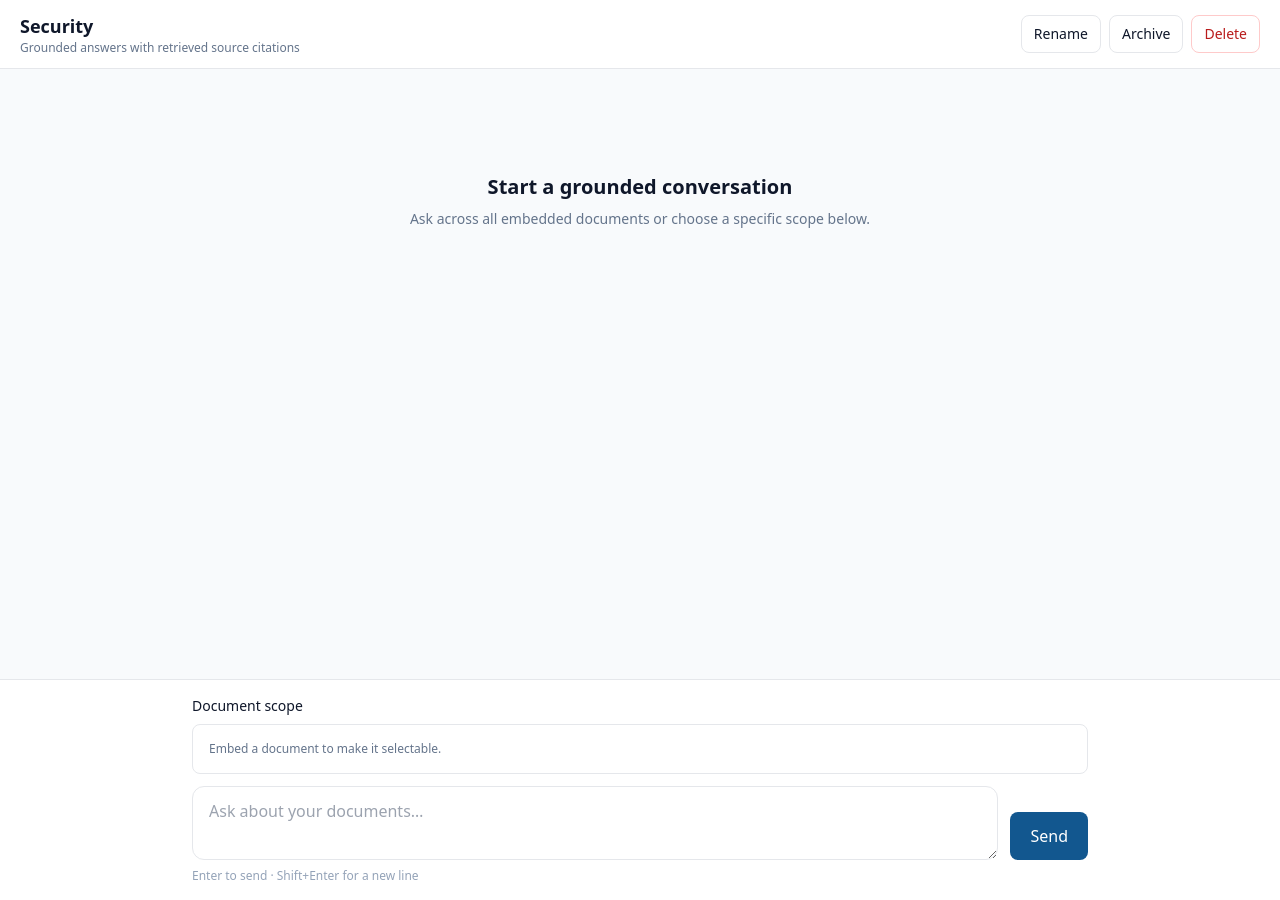
Test: announces safe stream errors and refreshes history
In the text box named "Ask a question": (595, 823) [192,786,998,860], type "How?"
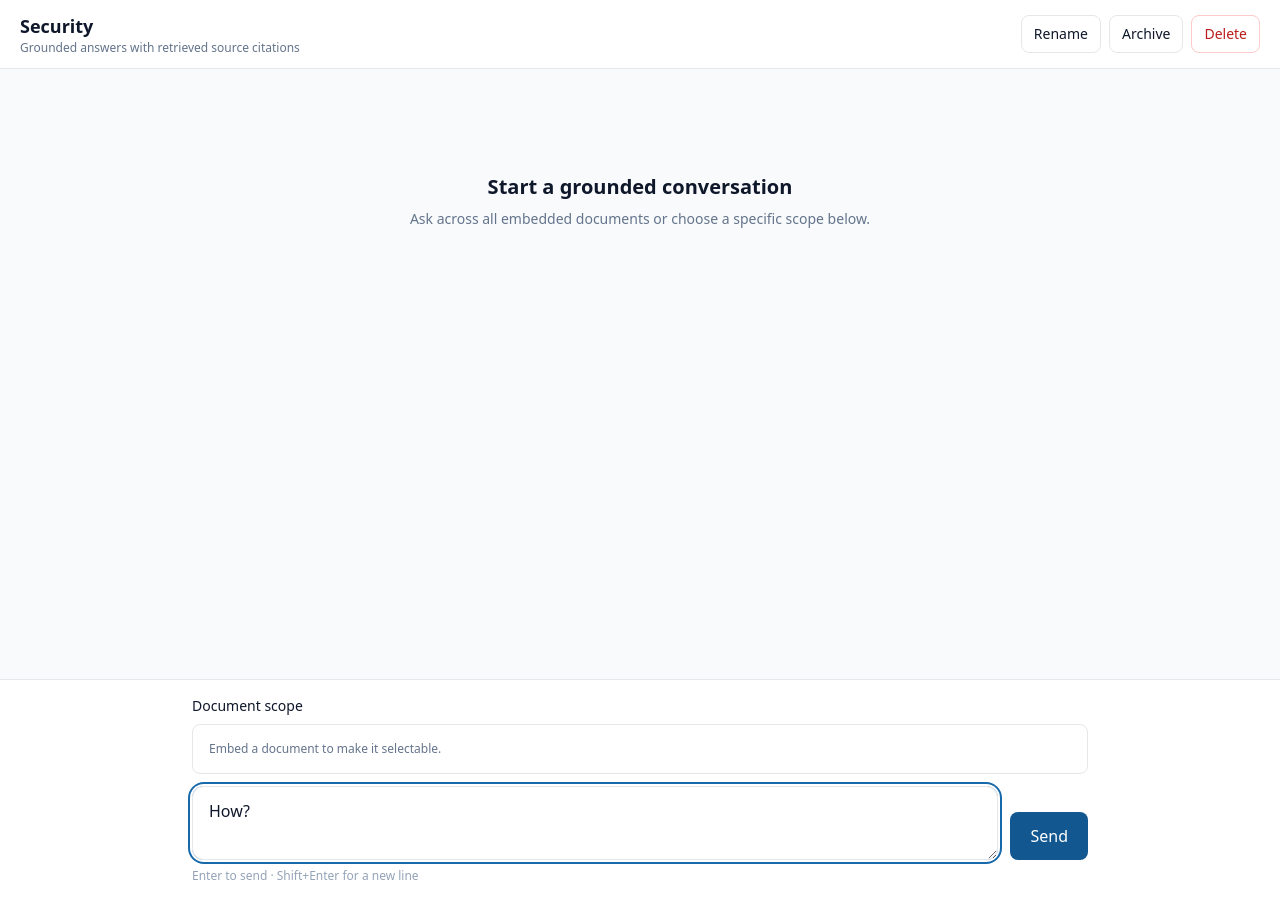
Click the button "Send": (1049, 836) [1010,812,1088,860]
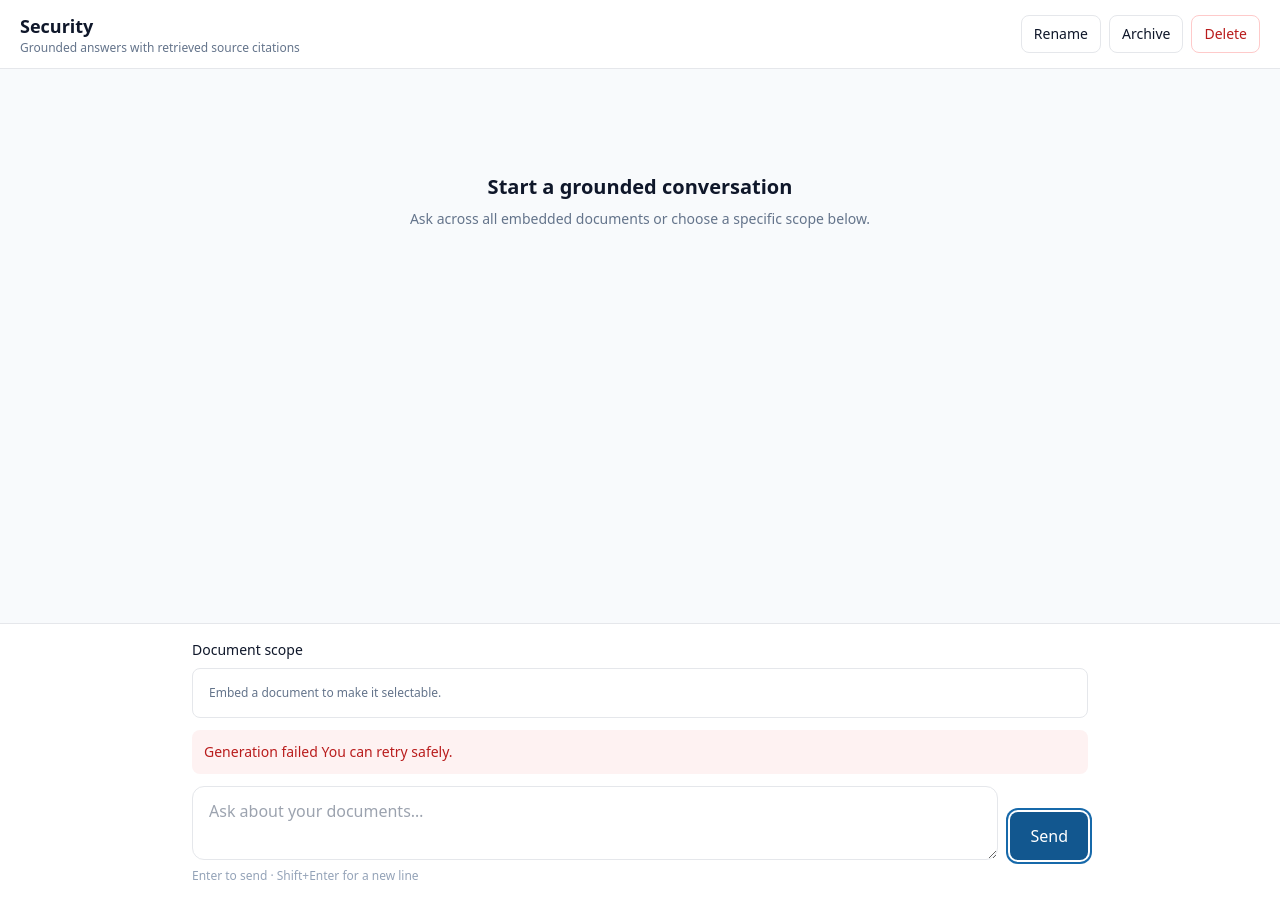
Now the message shows "Generation failed", box [204,742,318,761]
